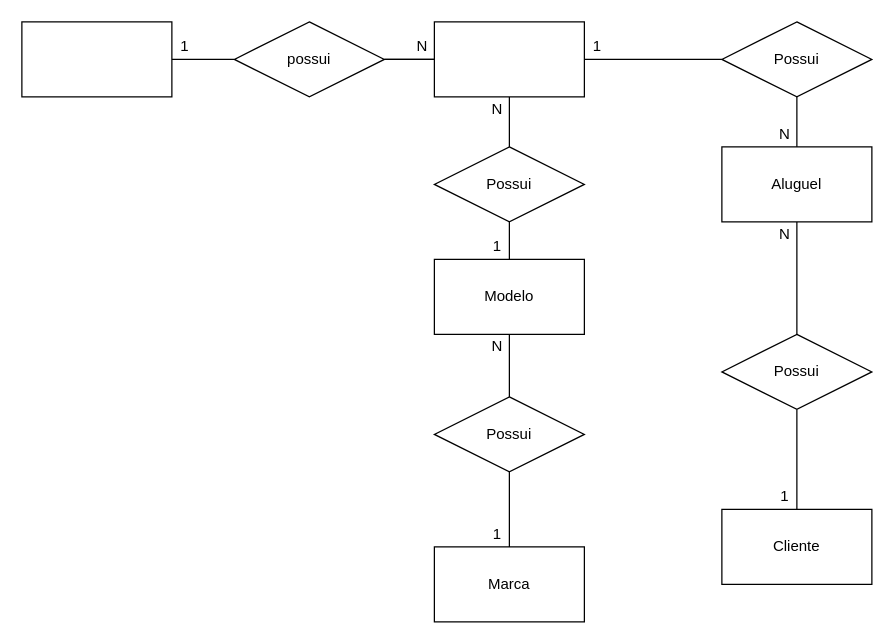
Some shapes in this 894 by 644 pixel diagram are drawn without their labels. Each missing label, with the centre of its shape:
"Empresa" belongs at pixel 96 59.
"Veículos" belongs at pixel 508 59.
